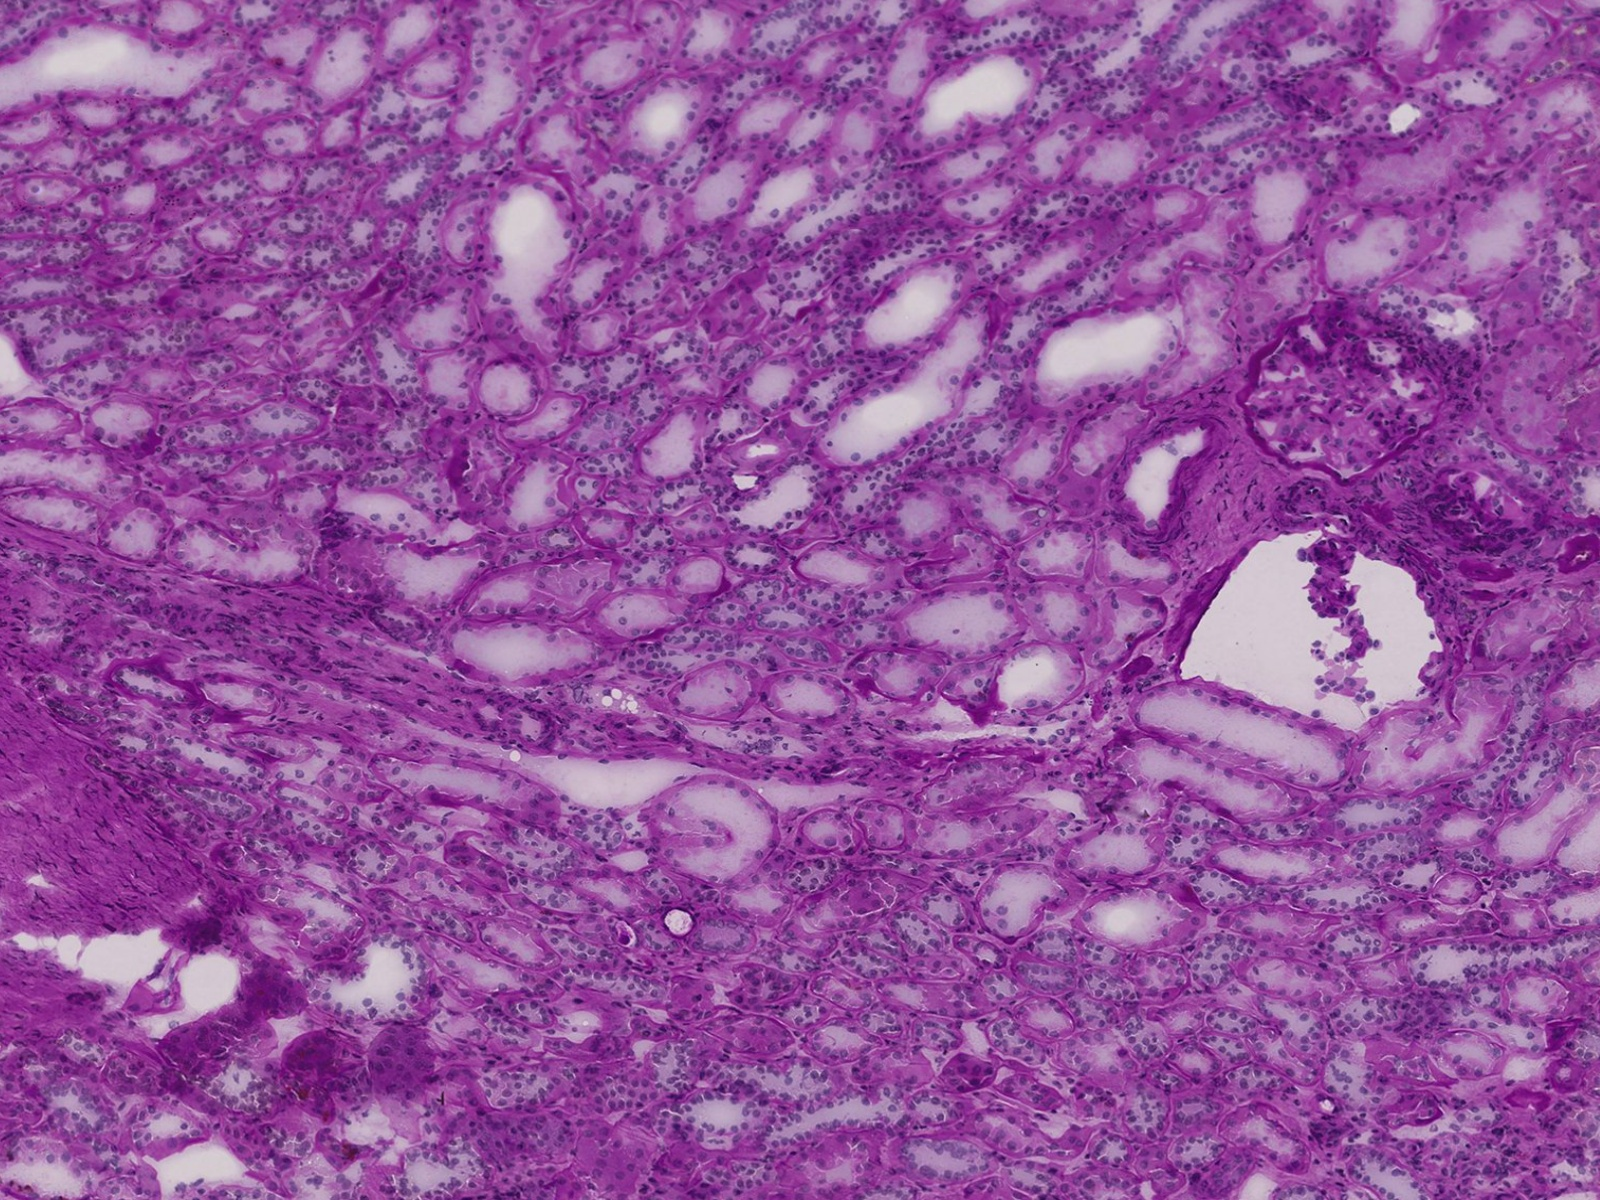Glomeruli: (1233, 296, 1456, 494)
